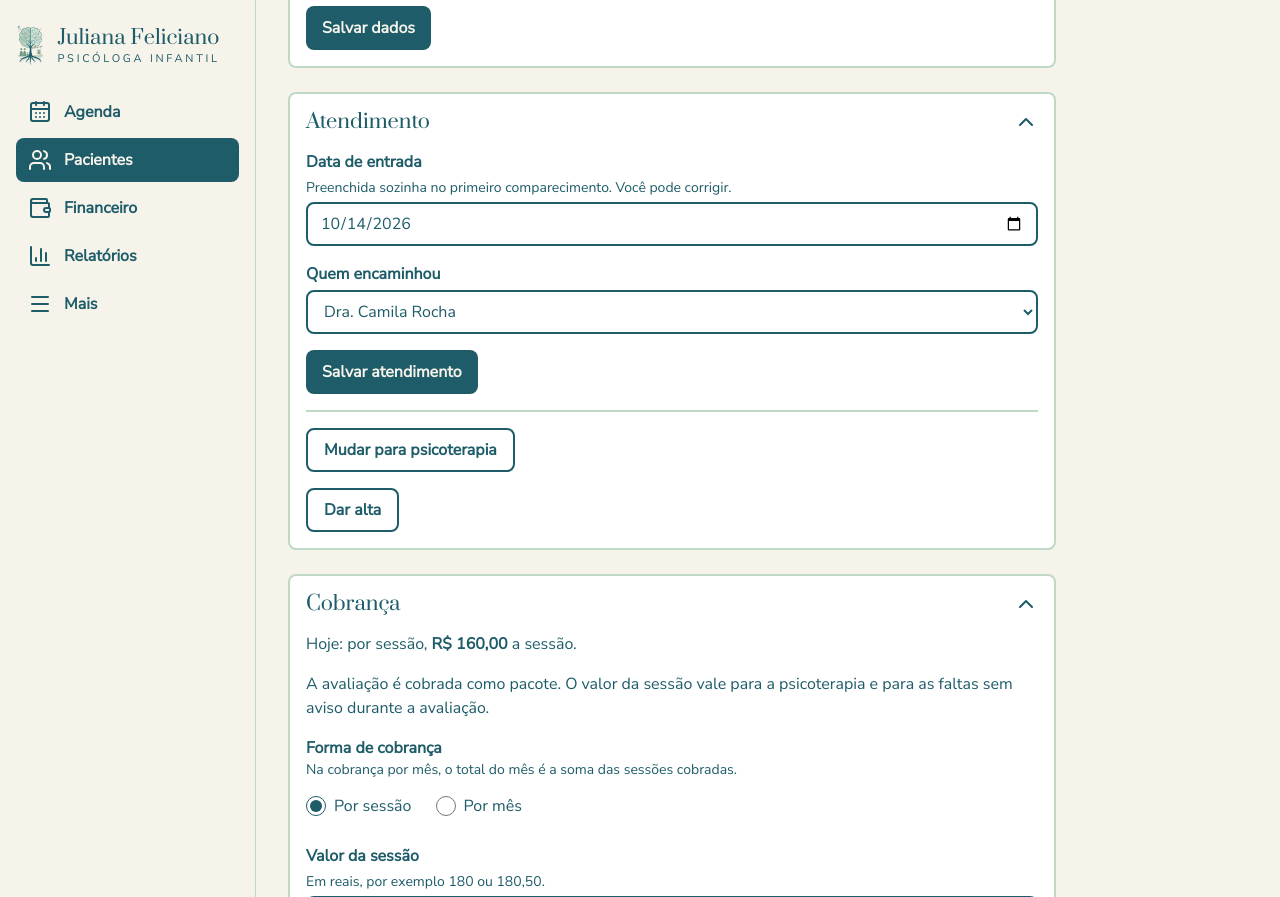
Scenario: SecaoAtendimento › mudar o tipo › Cancelar (ou Esc) não muda nada
(page scrolled)
Click the button "Mudar para psicoterapia" at (410, 450), box left=306, top=428, right=515, bottom=472
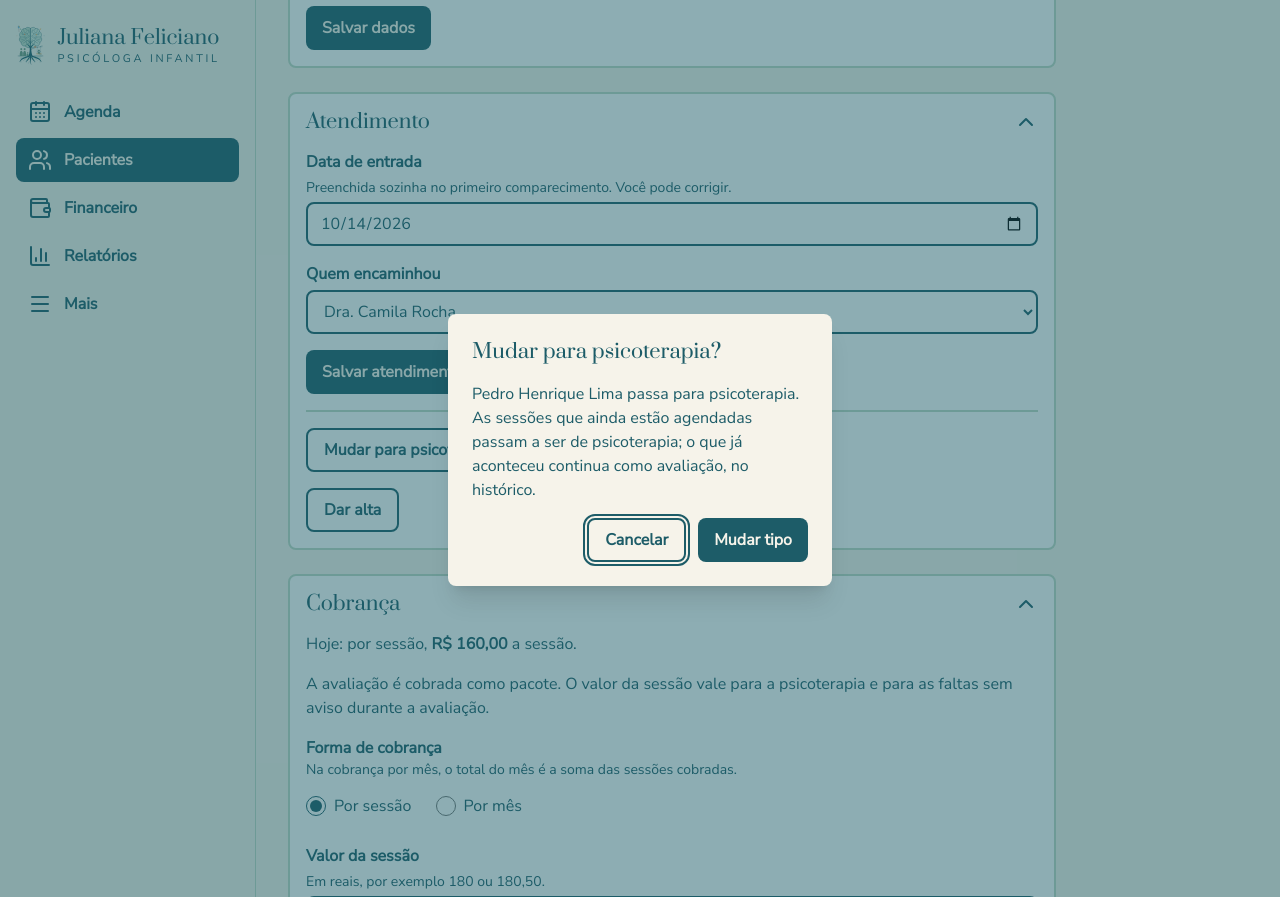
Click the button "Cancelar" at (637, 540), box left=587, top=518, right=686, bottom=562
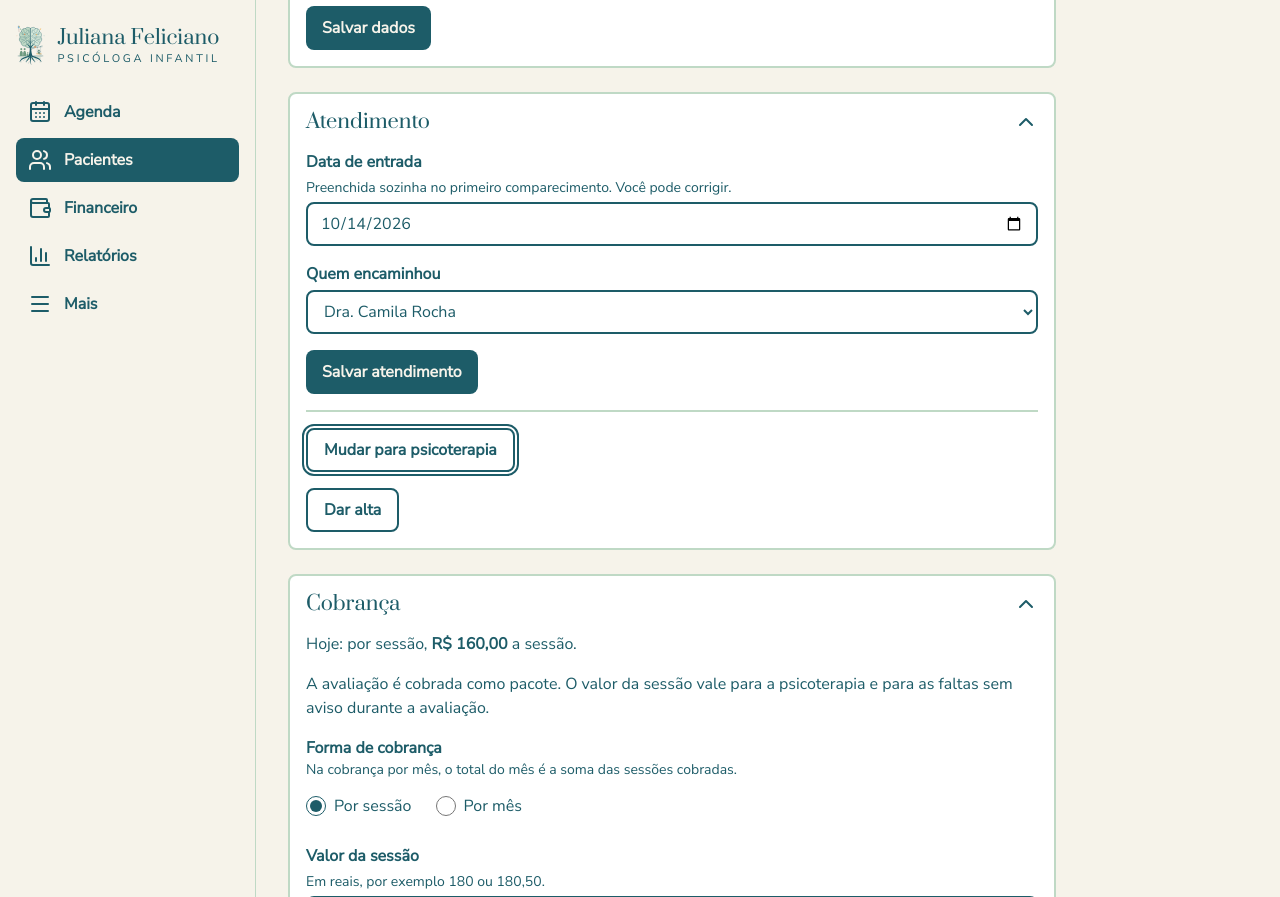
Expected: the dialog is gone
Click the button "Mudar para psicoterapia" at (410, 450), box left=306, top=428, right=515, bottom=472
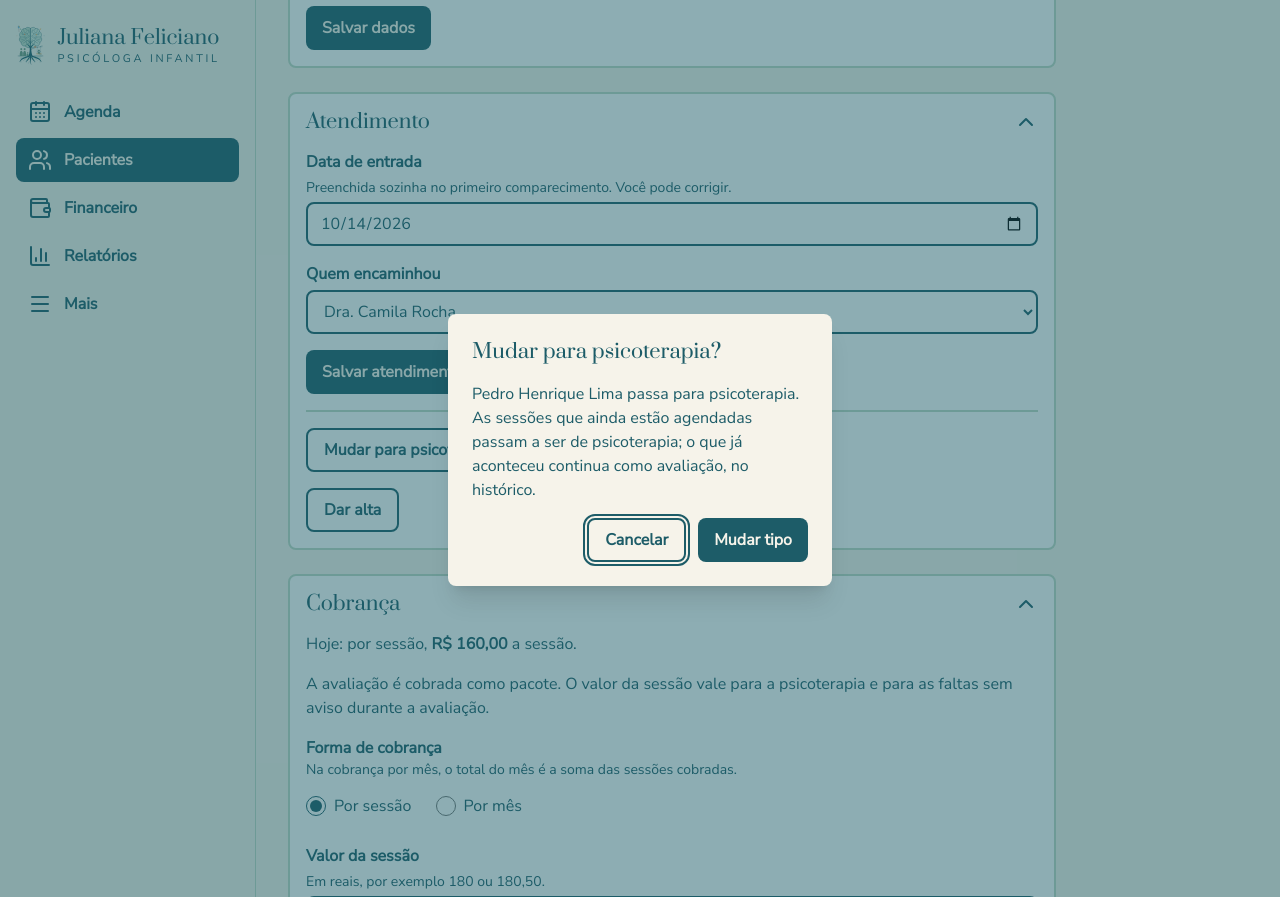
Expected: the dialog is shown, left=448, top=314, right=832, bottom=586
Press Escape
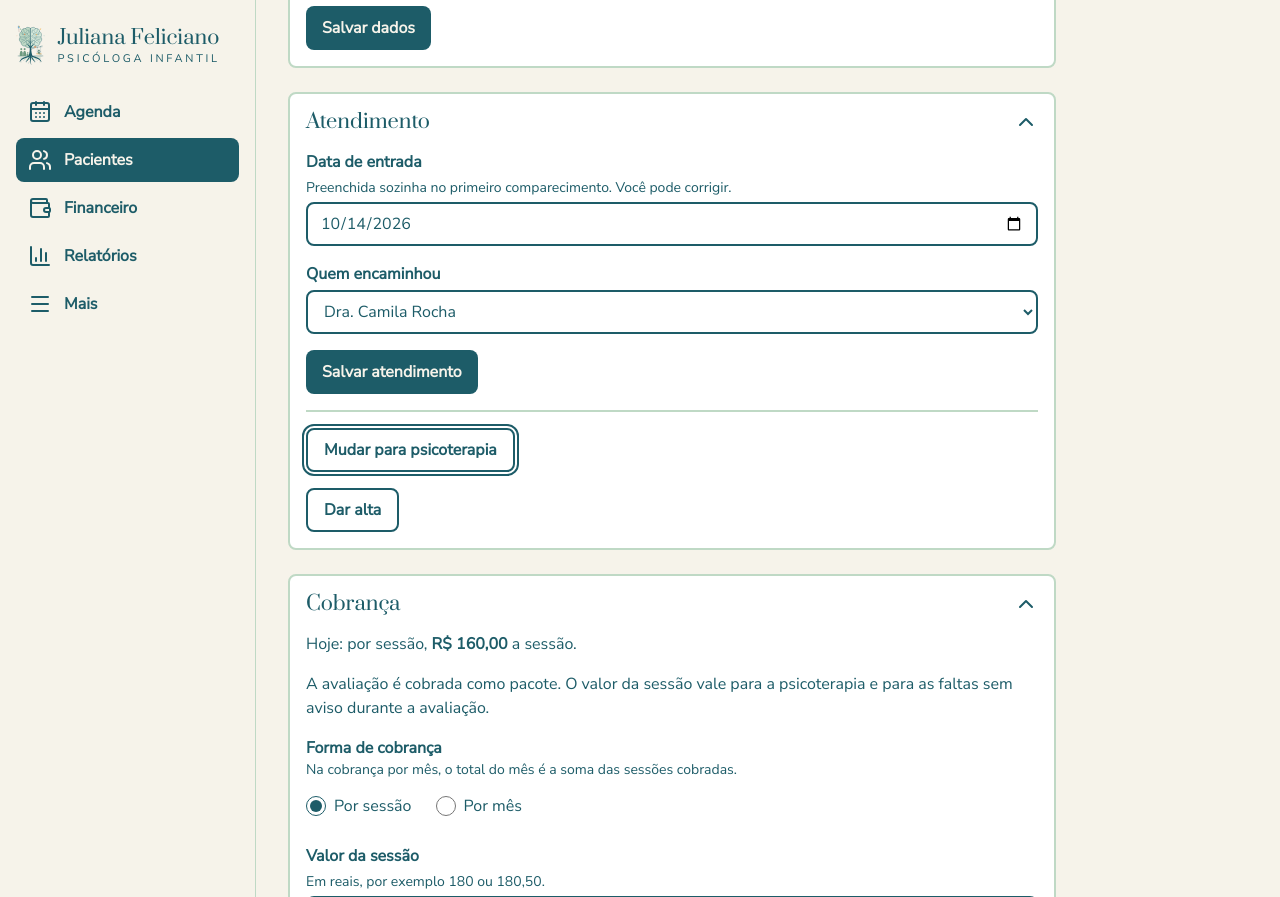
Expected: the dialog is gone
